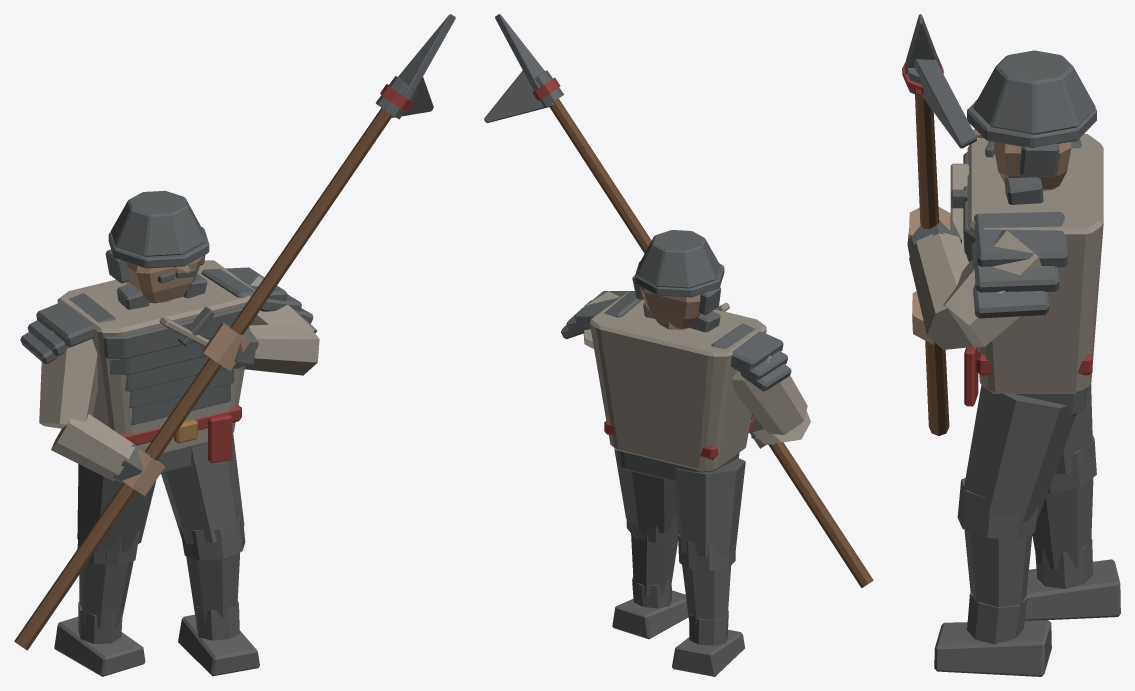
Rendered from chr_f1_halberdier_pixel_v003.glb.
The picture shows the model from 3 angles, left to right: view 1: azimuth 30°, elevation 25°; view 2: azimuth 150°, elevation 25°; view 3: azimuth 270°, elevation 25°; orthographic projection. The views are drawn at different scales.
Parts seen in each view (by area): view 1: EQP_JiShaft, CLT_TunicBody, CHR_Thigh_L, ARM_HelmetDome, CLT_UpperArm_R, CHR_Thigh_R, CLT_Forearm_R, CLT_Forearm_L, CHR_Foot_R, CHR_Shin_R, CHR_Foot_L, CHR_Shin_L (+20 smaller); view 2: CLT_TunicBody, CHR_Thigh_R, EQP_JiShaft, ARM_HelmetDome, CHR_Thigh_L, CLT_UpperArm_R, CHR_Shin_R, CHR_Foot_L, CHR_Shin_L, CHR_Foot_R, ARM_Shoulder_R_01, CHR_Head (+12 smaller); view 3: CLT_TunicBody, CHR_Thigh_L, ARM_HelmetDome, CHR_Foot_L, CLT_Forearm_L, EQP_JiShaft, CHR_Shin_L, ARM_Shoulder_L_01, CHR_Foot_R, CHR_Shin_R, CLT_UpperArm_L, EQP_JiLateralBlade (+20 smaller).
Part boxes in pixels (x1=…): EQP_JiShaft: x1=14, y1=108, x2=392, y2=650; CLT_TunicBody: x1=57, y1=260, x2=255, y2=454; CHR_Thigh_L: x1=161, y1=433, x2=244, y2=544; ARM_HelmetDome: x1=110, y1=190, x2=205, y2=256; CLT_UpperArm_R: x1=39, y1=330, x2=97, y2=428; CHR_Thigh_R: x1=77, y1=464, x2=156, y2=552; CLT_Forearm_R: x1=51, y1=414, x2=134, y2=481; CLT_Forearm_L: x1=240, y1=323, x2=319, y2=375; CHR_Foot_R: x1=54, y1=616, x2=145, y2=676; CHR_Shin_R: x1=79, y1=547, x2=133, y2=628; CHR_Foot_L: x1=178, y1=614, x2=259, y2=676; CHR_Shin_L: x1=186, y1=552, x2=240, y2=622; CLT_TunicBody: x1=589, y1=292, x2=766, y2=471; CHR_Thigh_R: x1=673, y1=458, x2=745, y2=556; EQP_JiShaft: x1=549, y1=98, x2=873, y2=588; ARM_HelmetDome: x1=636, y1=230, x2=720, y2=288; CHR_Thigh_L: x1=614, y1=448, x2=676, y2=533; CLT_UpperArm_R: x1=731, y1=355, x2=807, y2=434; CHR_Shin_R: x1=682, y1=551, x2=731, y2=626; CHR_Foot_L: x1=612, y1=590, x2=688, y2=639; CHR_Shin_L: x1=630, y1=526, x2=678, y2=596; CHR_Foot_R: x1=672, y1=629, x2=744, y2=676; ARM_Shoulder_R_01: x1=711, y1=323, x2=783, y2=370; CHR_Head: x1=639, y1=286, x2=700, y2=328; CLT_TunicBody: x1=967, y1=134, x2=1103, y2=393; CHR_Thigh_L: x1=961, y1=385, x2=1076, y2=522; ARM_HelmetDome: x1=973, y1=50, x2=1095, y2=134; CHR_Foot_L: x1=934, y1=620, x2=1051, y2=676; CLT_Forearm_L: x1=909, y1=232, x2=972, y2=349; EQP_JiShaft: x1=915, y1=94, x2=949, y2=435; CHR_Shin_L: x1=964, y1=522, x2=1032, y2=618; ARM_Shoulder_L_01: x1=974, y1=212, x2=1067, y2=267; CHR_Foot_R: x1=1024, y1=559, x2=1120, y2=620; CHR_Shin_R: x1=1032, y1=478, x2=1093, y2=569; CLT_UpperArm_L: x1=943, y1=230, x2=1048, y2=347; EQP_JiLateralBlade: x1=914, y1=59, x2=976, y2=148.
Bounding box in the file's own units: 1.7 × 2.3 × 0.5919.
